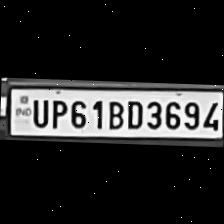1: (88, 97, 104, 130)
3: (144, 97, 162, 130)
4: (200, 98, 220, 130)
6: (65, 97, 87, 128), (162, 97, 180, 129)
9: (180, 98, 200, 129)
B: (103, 96, 123, 130)
D: (123, 96, 143, 129)
P: (47, 96, 66, 128)
U: (28, 96, 50, 128)
